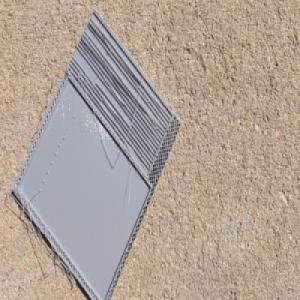PlasticPart: (9, 8, 182, 300)
